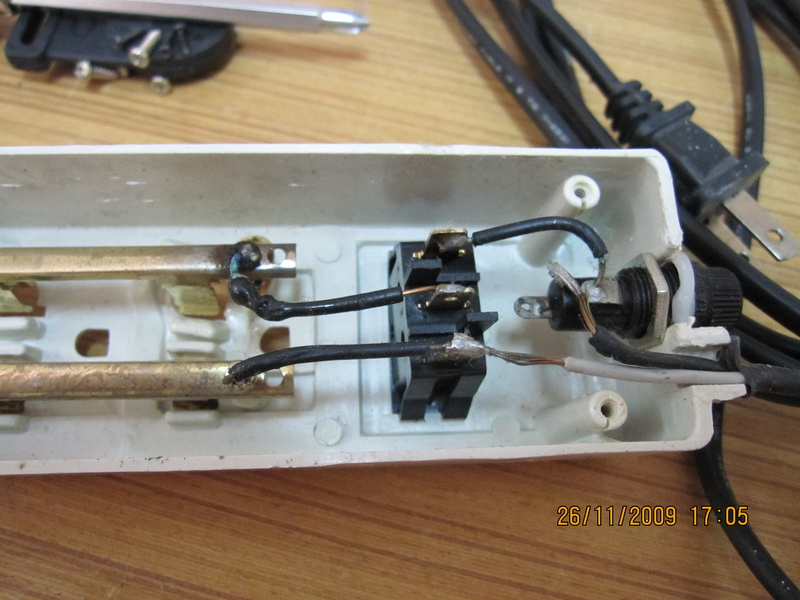Three_eye_plug: (1, 121, 748, 491)
